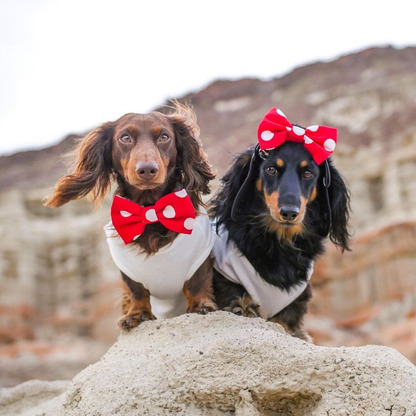dachshund: (63, 101, 224, 331), (226, 105, 364, 353)
